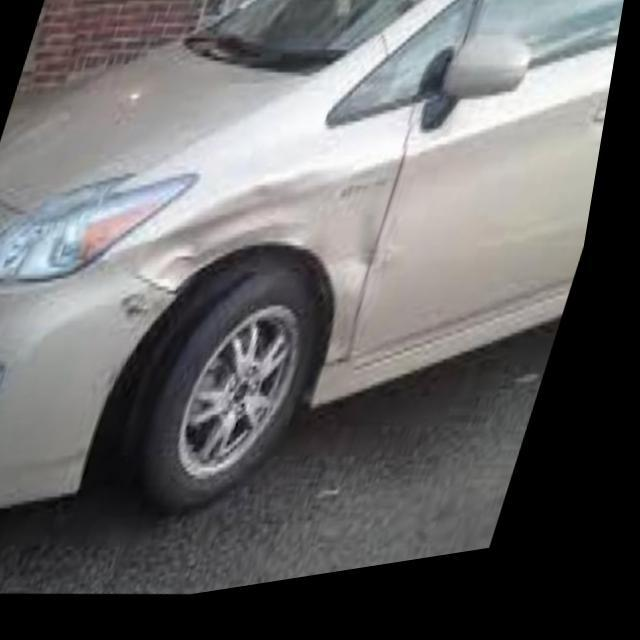dent: (87, 179, 403, 486)
